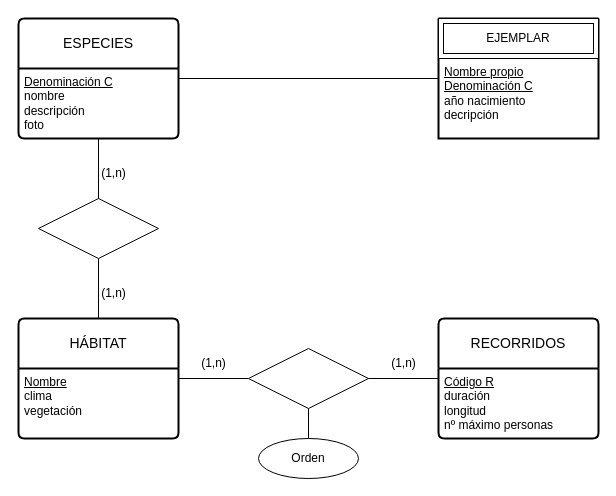
Some shapes in this 616 by 496 pixel diagram are drawn without their labels. Here are the shapes that lost their labels. From the top down, the centre of each, then its label:
At point (98, 228): "TIENEN NxM".
At point (308, 378): "TIENE".
